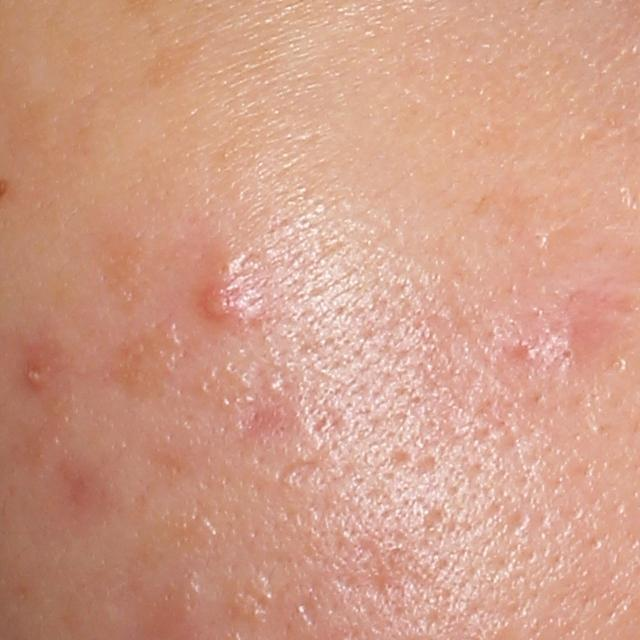papule: (25, 360, 46, 388)
